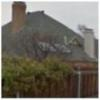chimneys: (12, 1, 26, 33), (83, 28, 95, 58)
